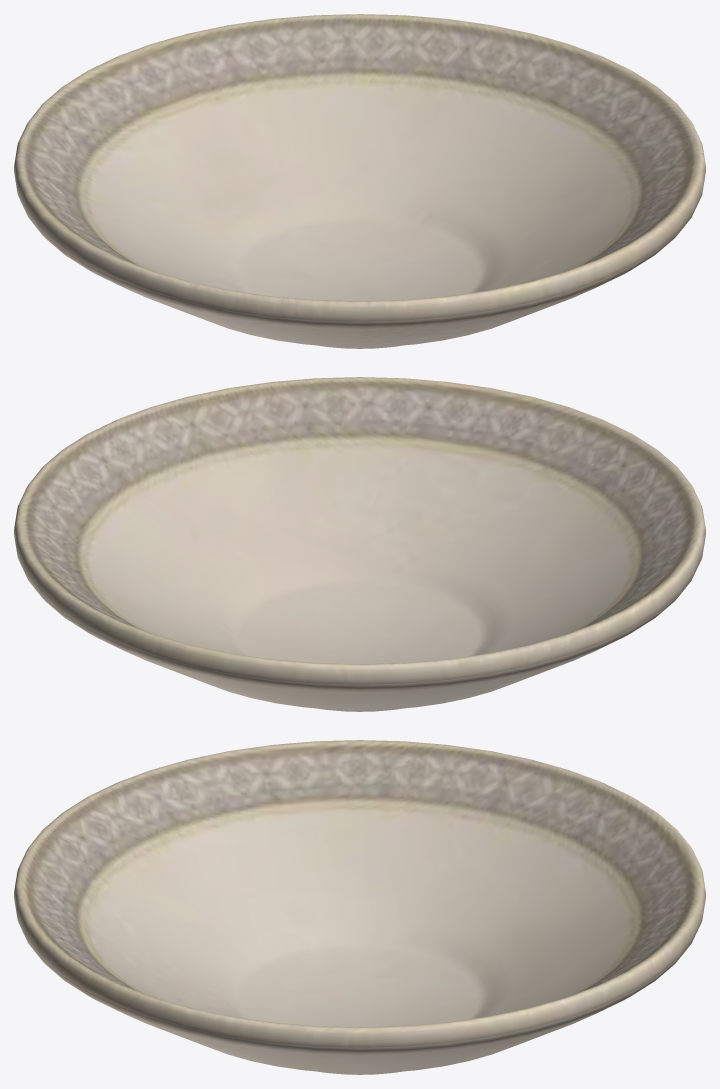
The model's file is saucer.glb.
3 renders of one model, top to bottom at view 1: azimuth 30°, elevation 25°; view 2: azimuth 150°, elevation 25°; view 3: azimuth 270°, elevation 25°, orthographic.
Parts seen in each view (by area): view 1: tea_set_01_saucer_circular_03.001; view 2: tea_set_01_saucer_circular_03.001; view 3: tea_set_01_saucer_circular_03.001.
Part boxes in pixels (box(x1,y1,x2,y2)): tea_set_01_saucer_circular_03.001: box(14, 14, 705, 348); tea_set_01_saucer_circular_03.001: box(14, 377, 705, 711); tea_set_01_saucer_circular_03.001: box(14, 740, 705, 1074).
Size of the model in its own units: 3.45 by 0.7831 by 3.45.
1 material, 1 textured.
